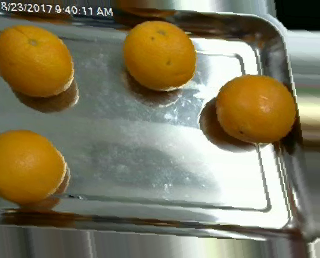Orange: (216, 74, 296, 145), (1, 23, 75, 97), (122, 19, 195, 91), (1, 130, 67, 203)
